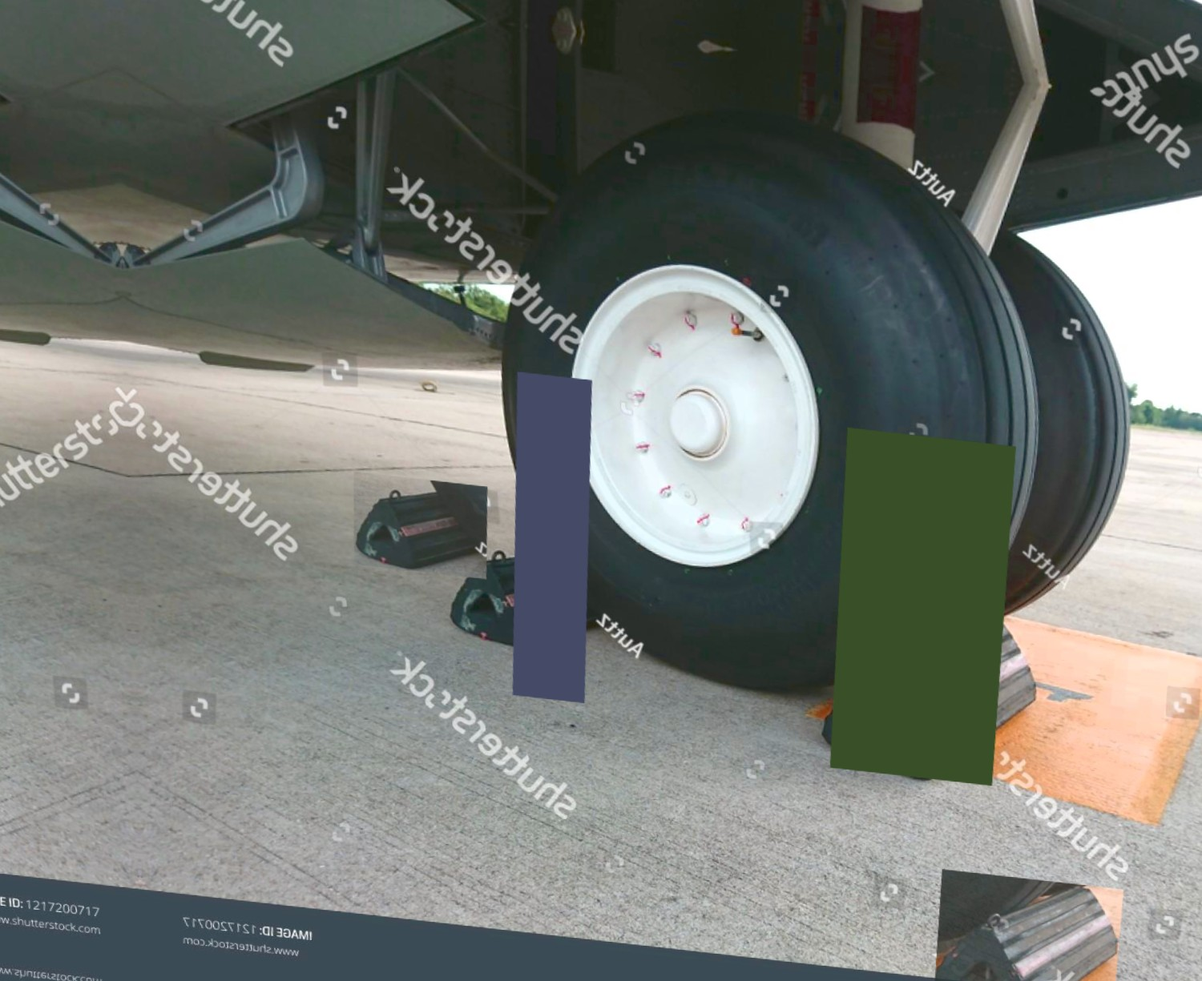chock: (813, 599, 1047, 793), (437, 528, 620, 660), (927, 869, 1126, 981), (345, 471, 496, 580)
wheel: (475, 90, 1050, 719), (929, 222, 1157, 643)
